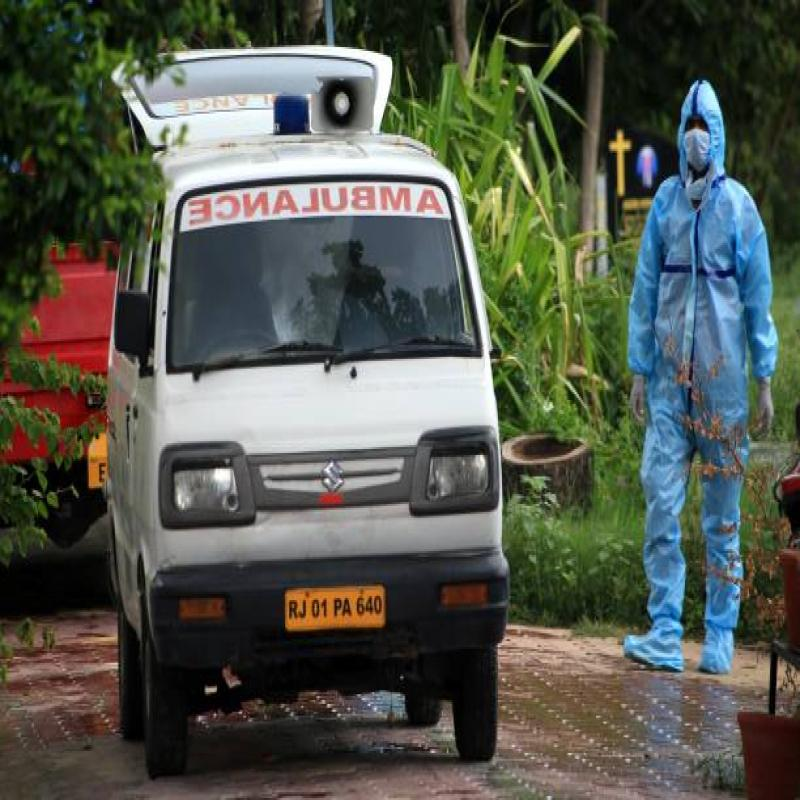ambulance: (111, 34, 510, 757)
